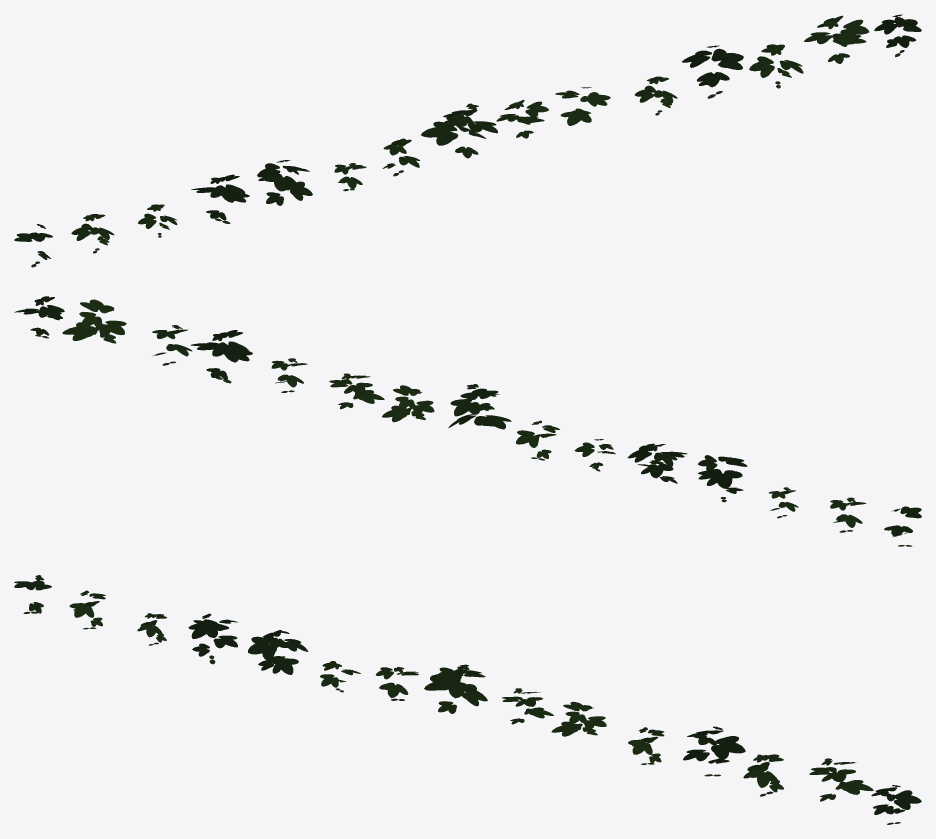
File: ROW_21_SEG1_foliage.dae
The picture shows the model from 3 angles, top to bottom: view 1: azimuth 30°, elevation 25°; view 2: azimuth 150°, elevation 25°; view 3: azimuth 330°, elevation 25°; orthographic projection.
Parts seen in each view (by area): view 1: ROW_21_SEG1_foliage; view 2: ROW_21_SEG1_foliage; view 3: ROW_21_SEG1_foliage.
Boxes of the visible parts, <box> form: ROW_21_SEG1_foliage: <box>14,14,921,267</box>; ROW_21_SEG1_foliage: <box>14,296,921,546</box>; ROW_21_SEG1_foliage: <box>14,575,921,824</box>.
Size of the model in its own units: 4.44 by 0.3017 by 0.2577.
